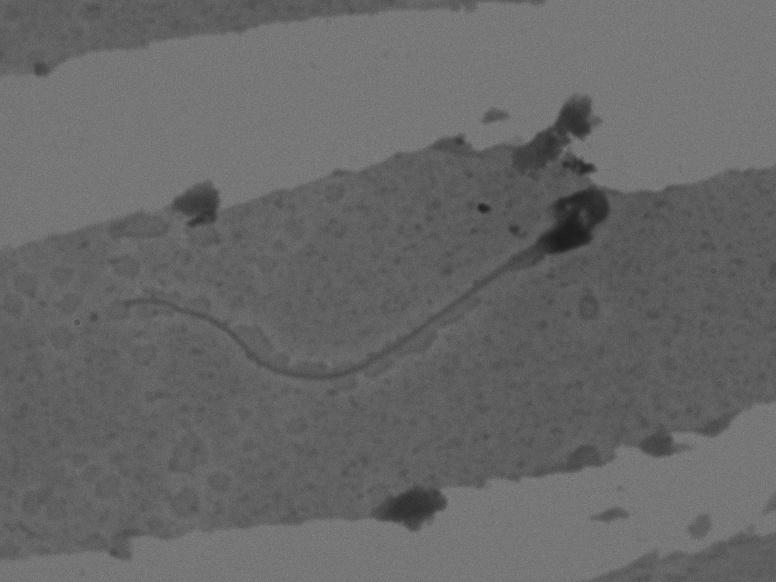Abnormal: (102, 183, 639, 410)
